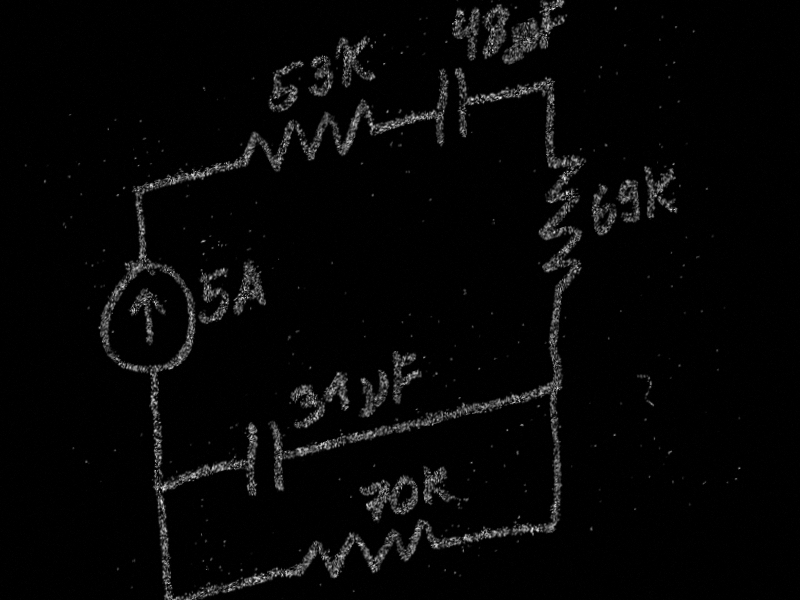0: (387, 472, 422, 519)
1: (320, 364, 355, 419)
3: (284, 378, 328, 434), (305, 51, 336, 101)
4: (446, 0, 485, 67)
5: (193, 262, 234, 327), (264, 59, 310, 115)
6: (585, 179, 622, 241)
7: (355, 474, 395, 530)
8: (477, 4, 514, 58)
9: (614, 174, 646, 229)
A: (228, 257, 268, 317)
F: (388, 343, 426, 408), (537, 0, 570, 51)
k: (332, 25, 379, 93), (638, 154, 682, 226), (419, 456, 454, 511)
u: (355, 366, 393, 419), (508, 18, 541, 63)
